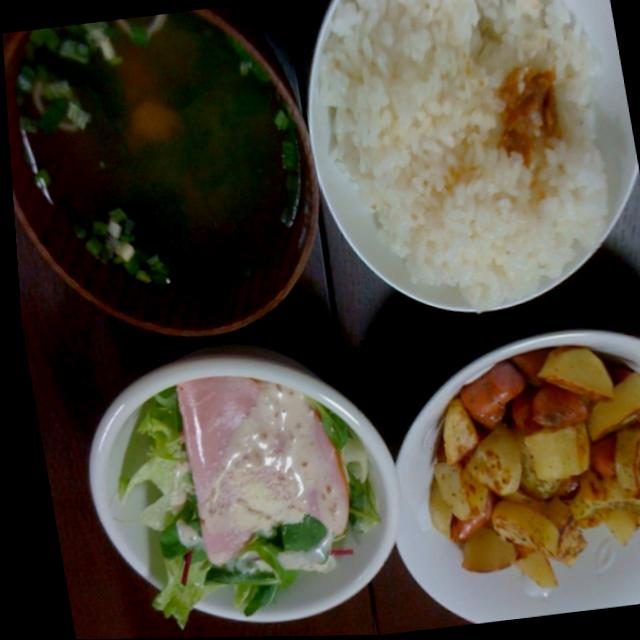米饭主食: (266, 0, 640, 353)
